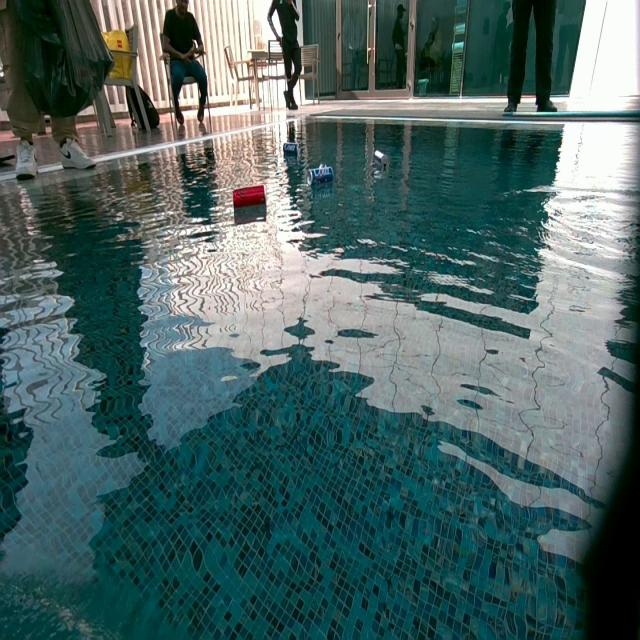Cans: (233, 188, 265, 209), (308, 165, 334, 186), (372, 149, 389, 175), (282, 142, 300, 156)
